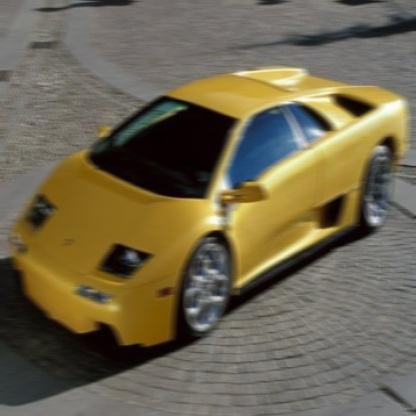Vehicle: (12, 66, 406, 348)
